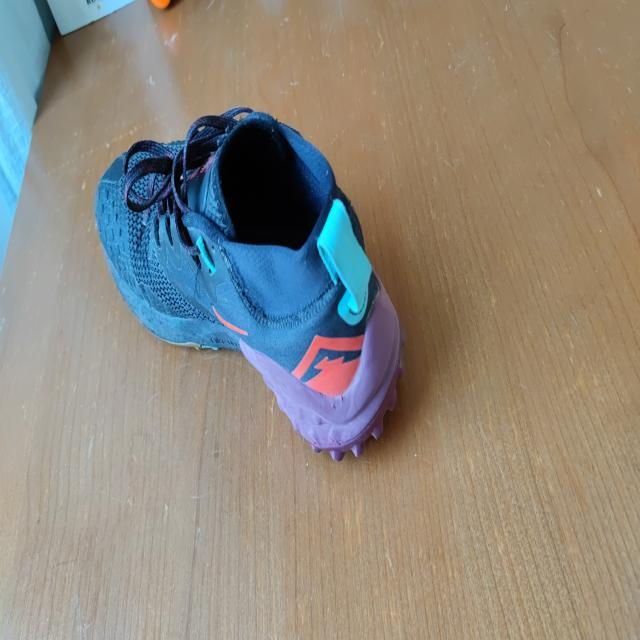shoe: (93, 103, 404, 462)
